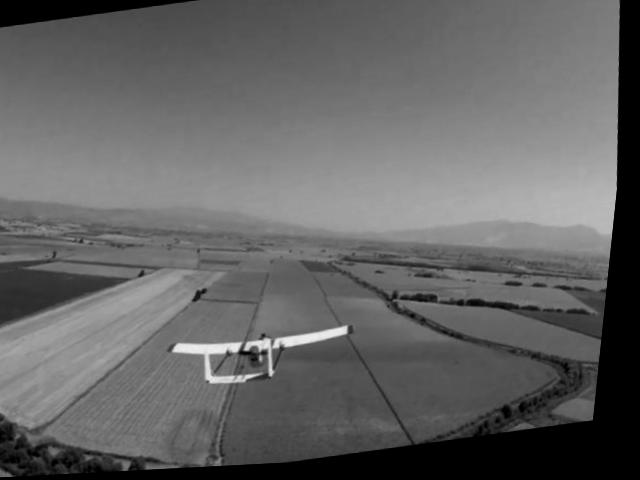hedef: (162, 299, 373, 410)
